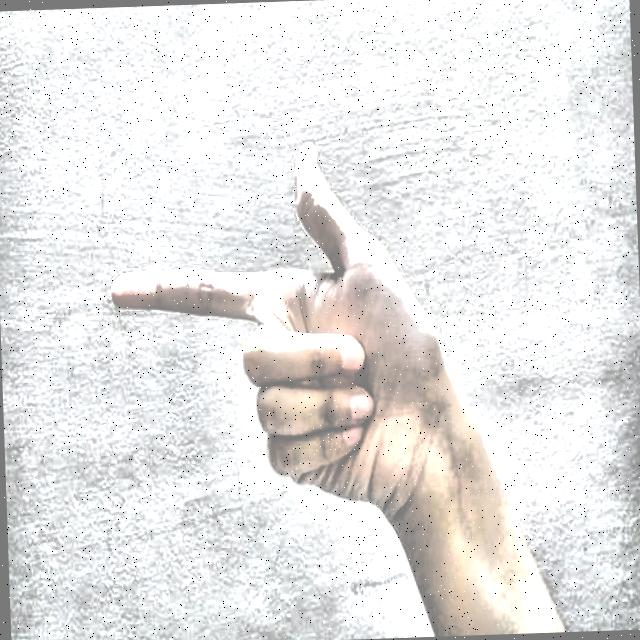Tho: (88, 90, 515, 540)
